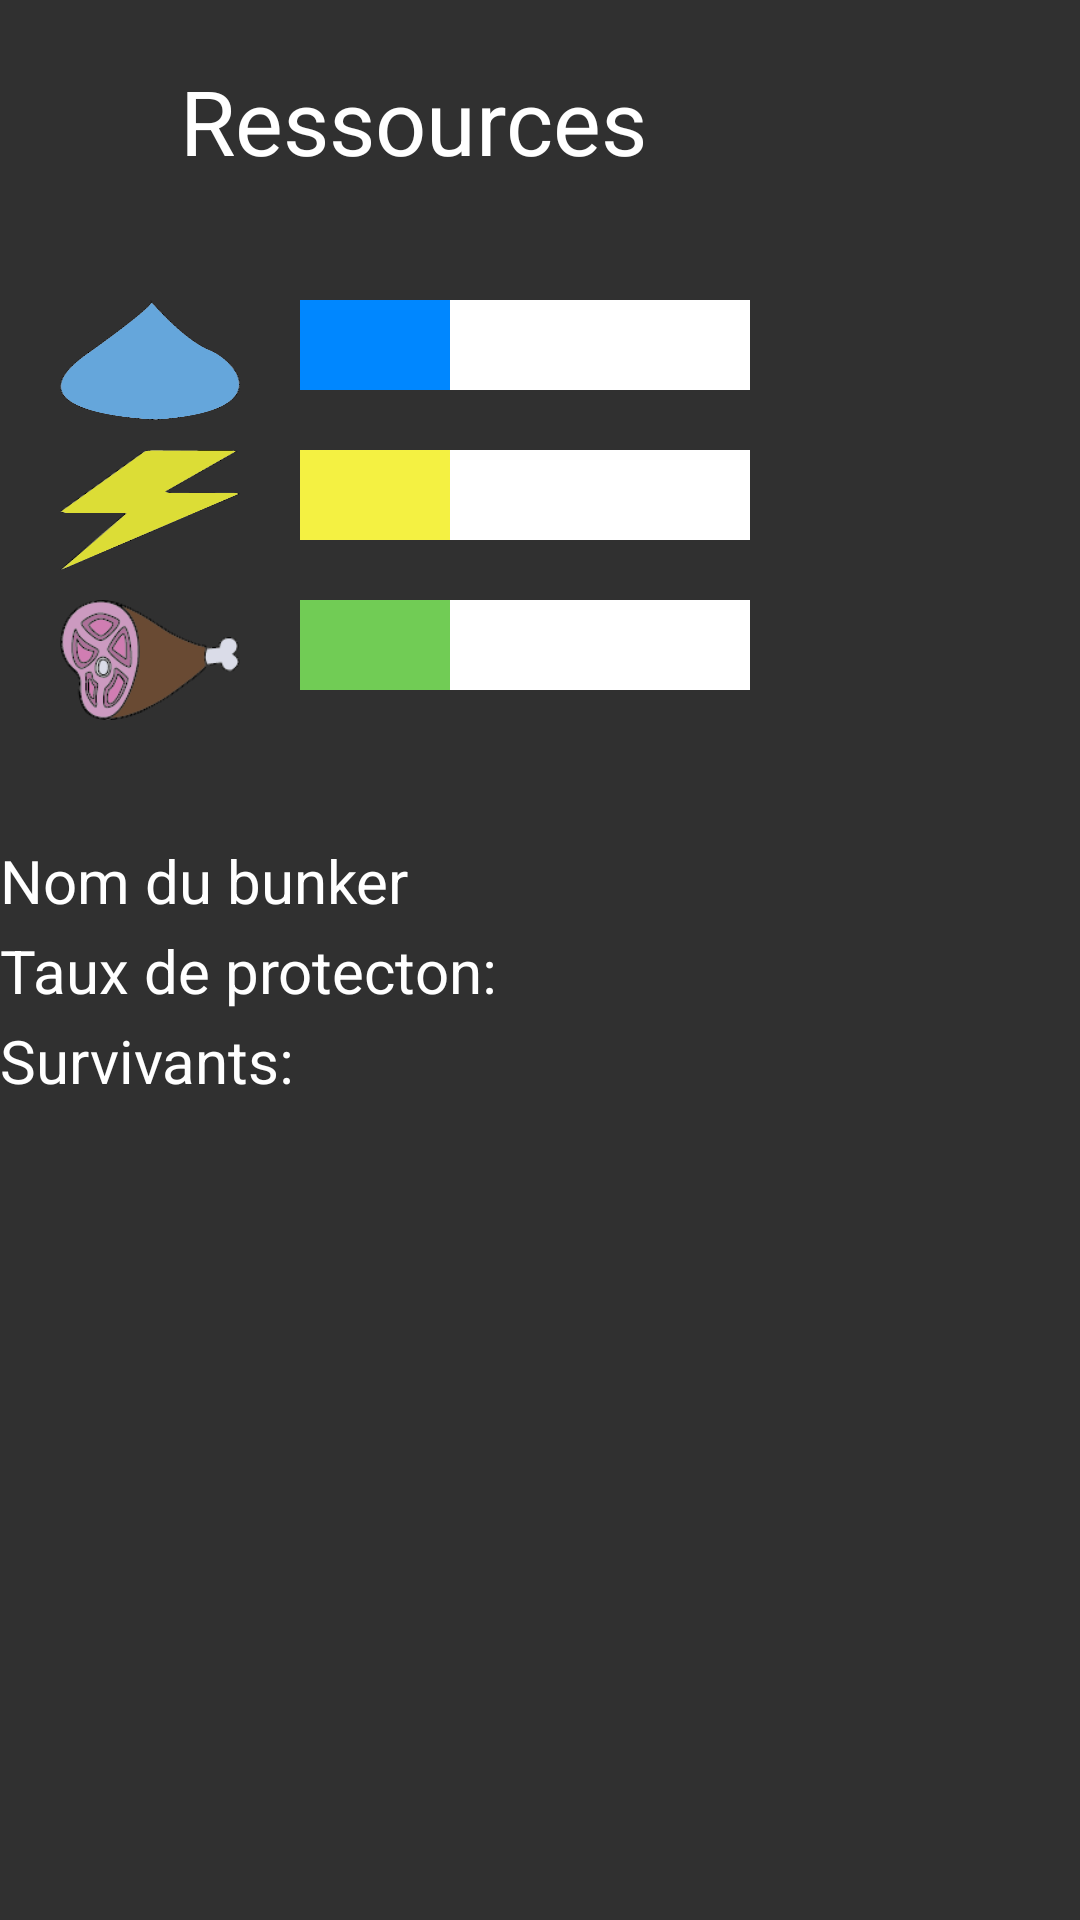

Named icons in this screenshot (1080w x 1920h) and their bounding boxes, [left=x1, top=y1, right=x2, bottom=y2]:
eau: [left=60, top=303, right=240, bottom=420]
eclair: [left=61, top=450, right=238, bottom=570]
jambon: [left=60, top=600, right=239, bottom=720]
